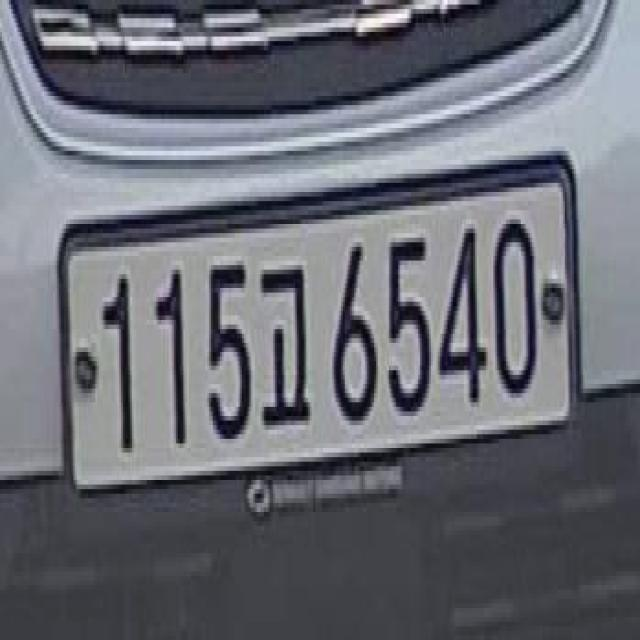illegal_plate: (56, 168, 575, 516)
